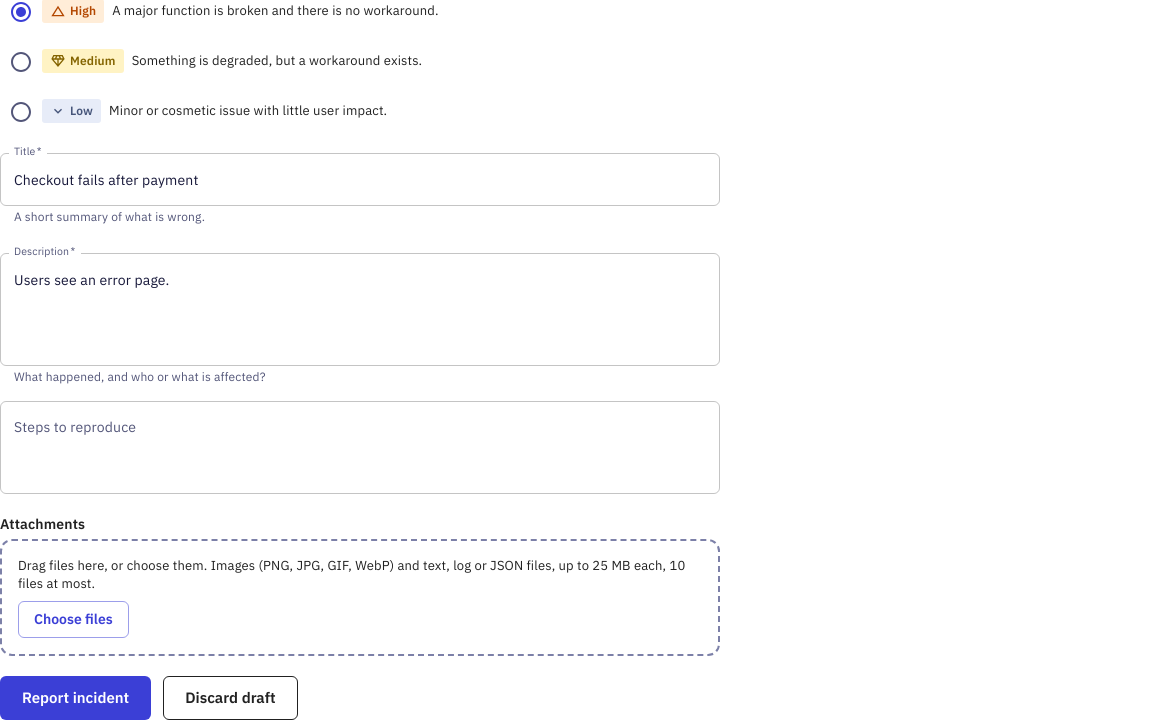
Test: ReportIncidentForm › draft autosave › discards the draft only after confirmation and empties the form
(page scrolled)
Click the button "Discard draft" at (230, 698), box [163,676,298,719]
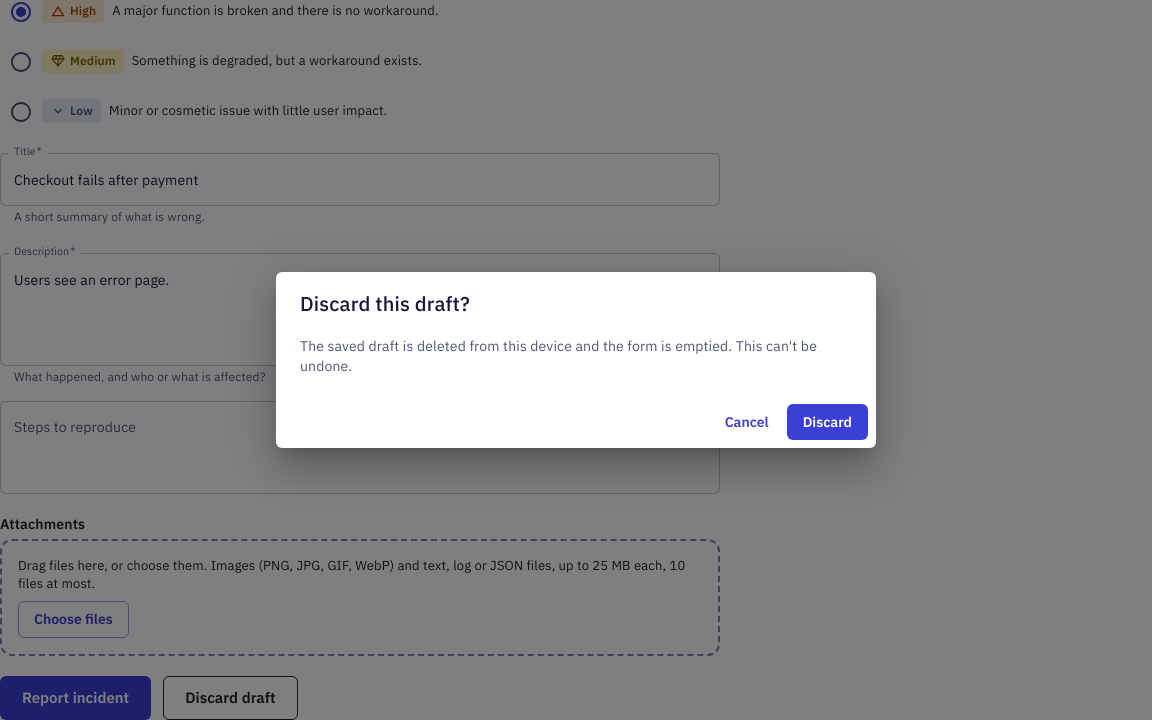
Click the button "Cancel" at (747, 422), box [715,404,779,440]
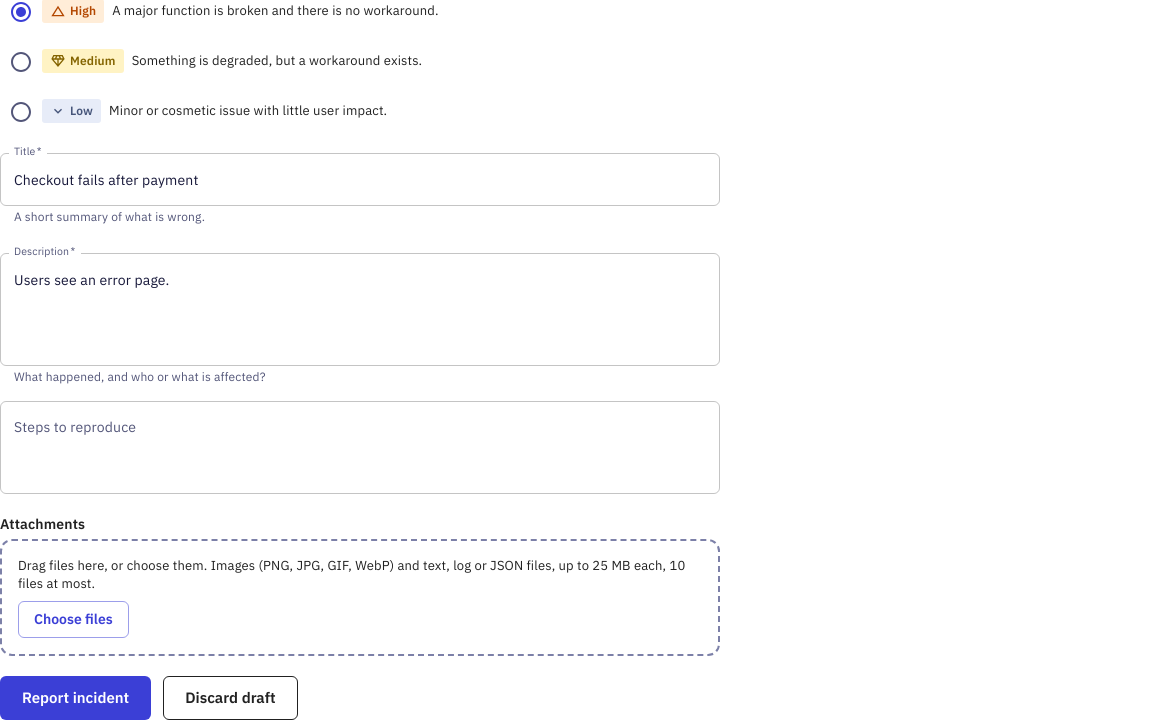
Expected: the field labelled "Title *" holds "Checkout fails after payment", [0,153,720,206]
Expected: the dialog is gone
Click the button "Discard draft" at (230, 698), box [163,676,298,719]
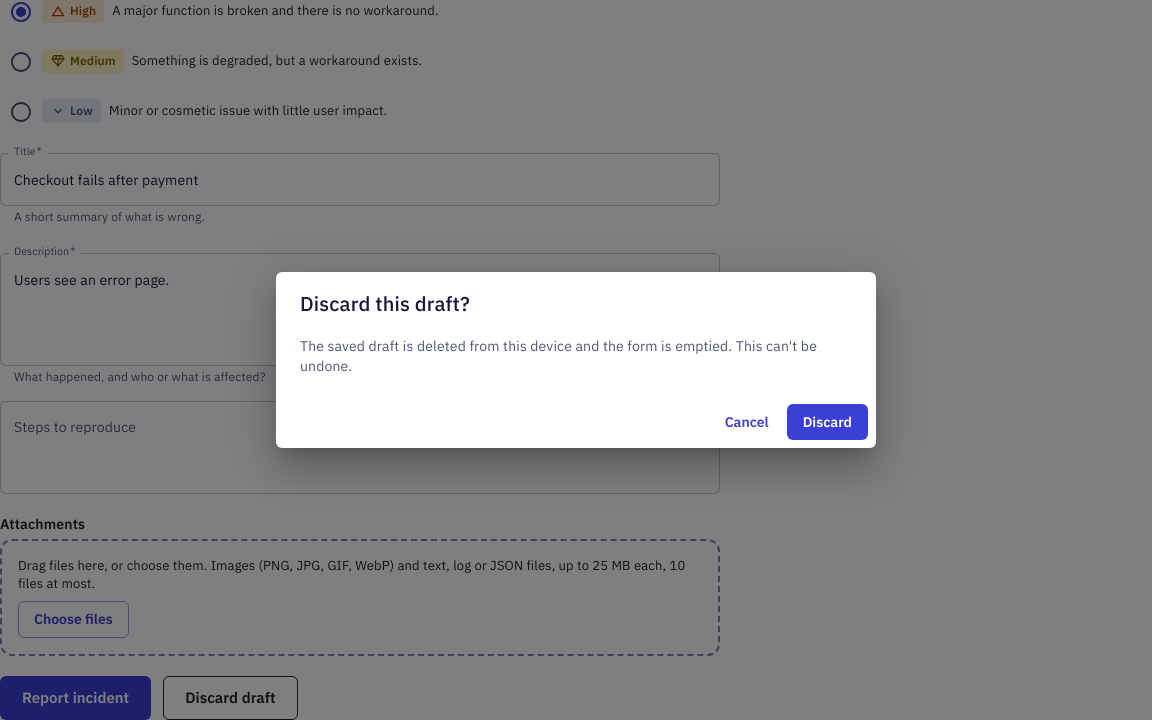
Click the button "Discard" at (827, 422), box [787,404,868,440]
(page scrolled)
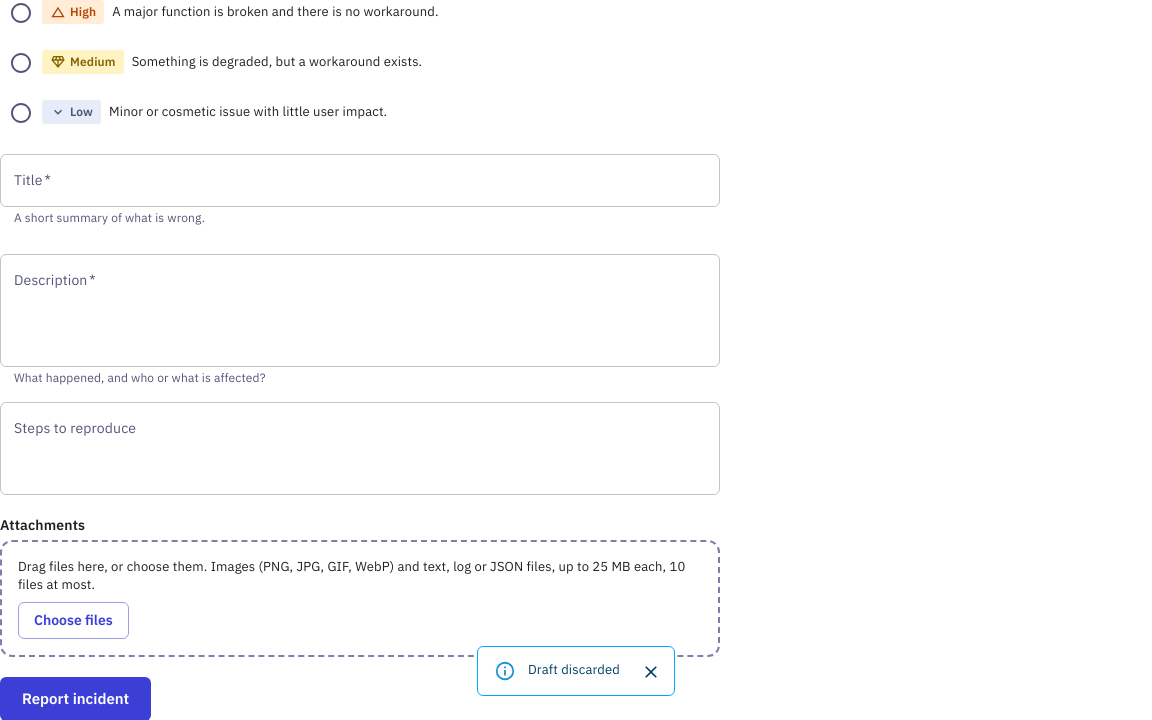
Expected: the field labelled "Title *" is empty, [0,154,720,207]
Expected: the button "Discard draft" is gone
